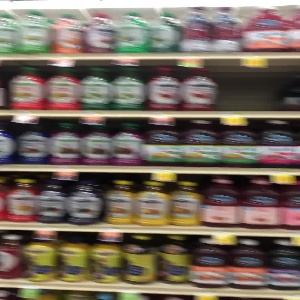void: (218, 62, 300, 112)
